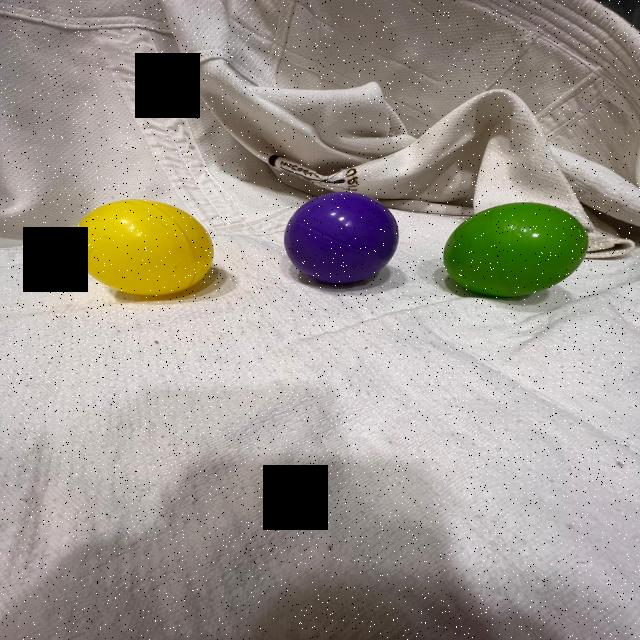ball: (441, 199, 592, 303), (69, 197, 218, 299), (282, 189, 401, 288)
